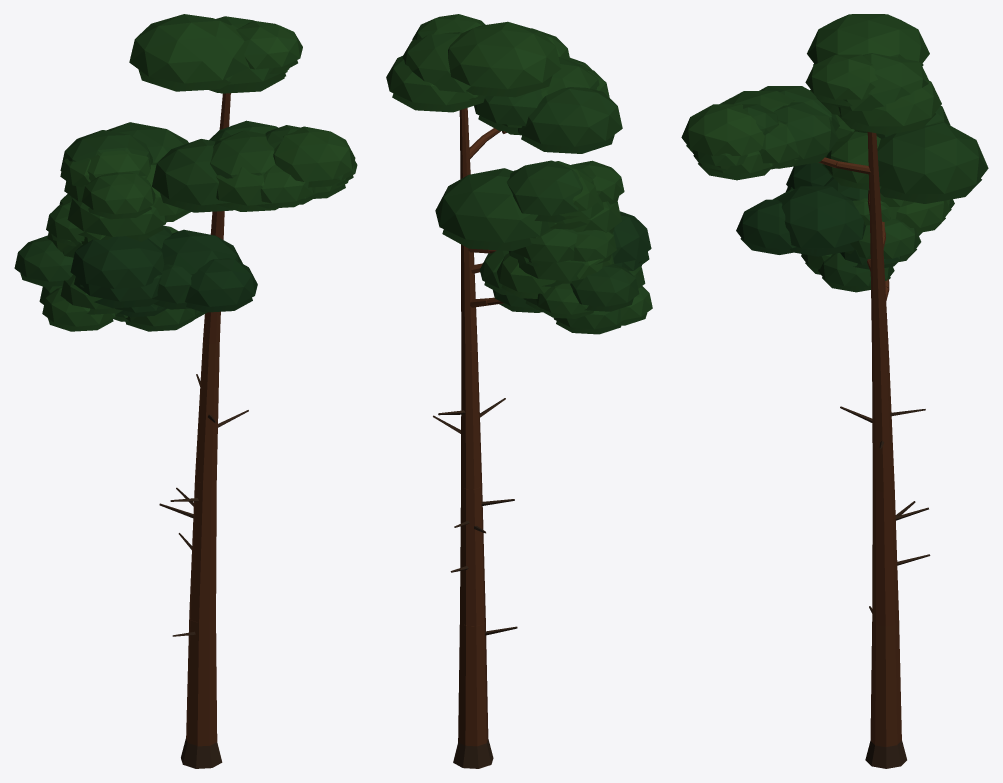
File: tree_pine_1.glb
3 views of the same model, side by side, from view 1: azimuth 30°, elevation 25°; view 2: azimuth 150°, elevation 25°; view 3: azimuth 270°, elevation 25° (orthographic). The views are drawn at different scales.
Visible parts, largest first — view 1: leaf, wood; view 2: leaf, wood; view 3: leaf, wood.
Boxes of the visible parts, bbox=[...] form: leaf: bbox=[14, 14, 357, 331]; wood: bbox=[159, 93, 248, 768]; leaf: bbox=[386, 14, 652, 334]; wood: bbox=[433, 108, 517, 768]; leaf: bbox=[681, 14, 988, 292]; wood: bbox=[818, 132, 930, 768].
Bounding box in the file's own units: 5.71 × 16.12 × 6.14.
